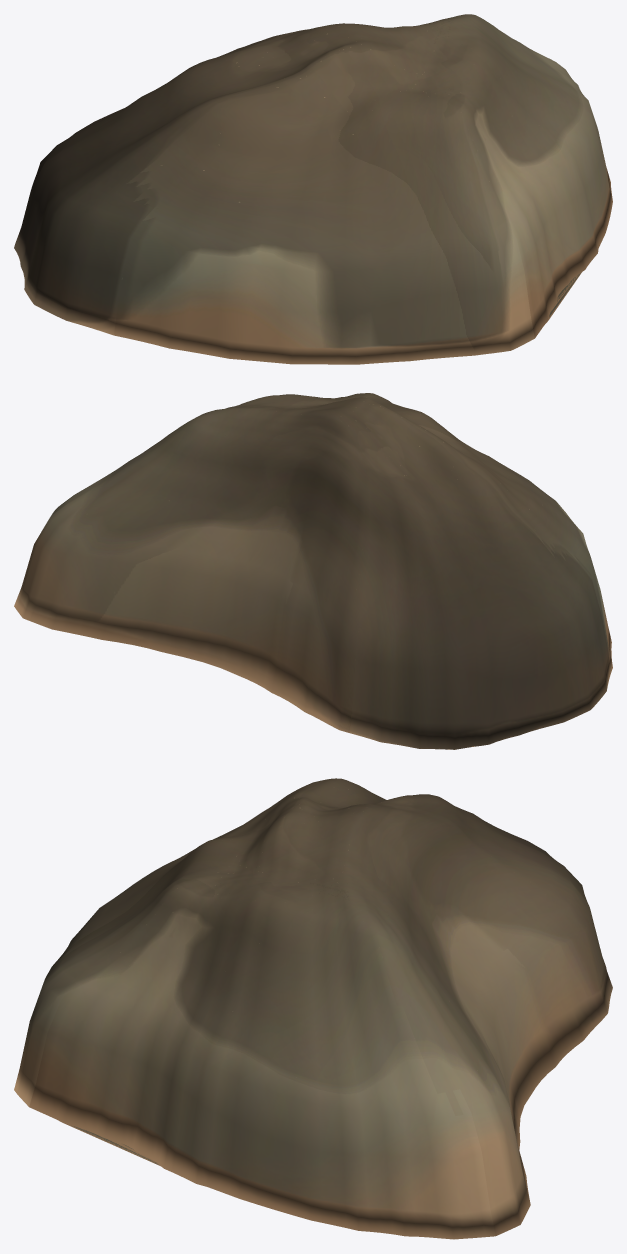
File: Tas3.fbx
3 renders of one model, top to bottom at view 1: azimuth 30°, elevation 25°; view 2: azimuth 150°, elevation 25°; view 3: azimuth 270°, elevation 25°, orthographic. The views are drawn at different scales.
Visible parts, largest first — view 1: Cube.038; view 2: Cube.038; view 3: Cube.038.
Boxes of the visible parts, left/top/right/bottom form: Cube.038: left=14, top=14, right=612, bottom=364; Cube.038: left=14, top=393, right=612, bottom=749; Cube.038: left=14, top=778, right=612, bottom=1239.
Bounding box in the file's own units: 505 × 191 × 392.
Materials: 1 (1 with a texture image).
